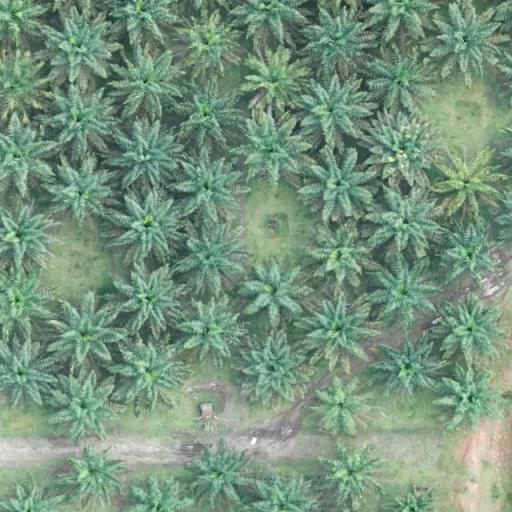Ganoderma: (444, 158, 489, 200)
